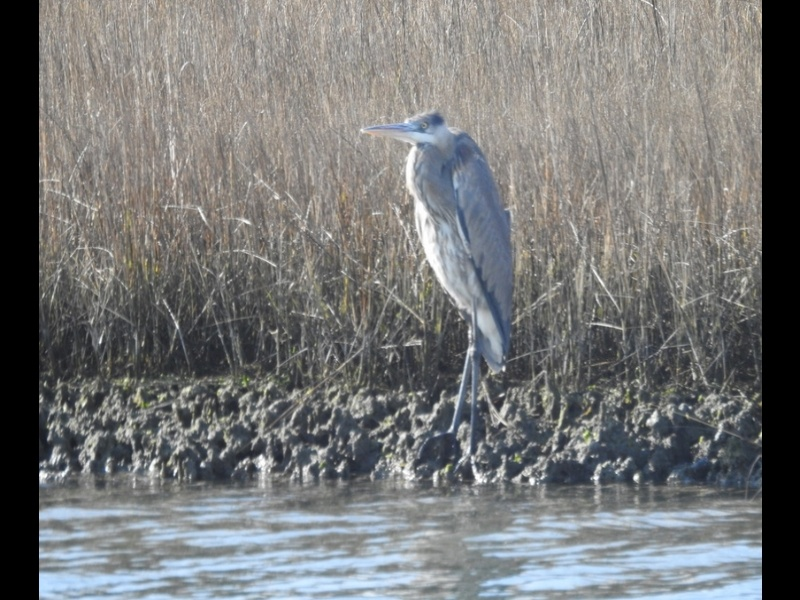heron: (360, 107, 519, 430)
